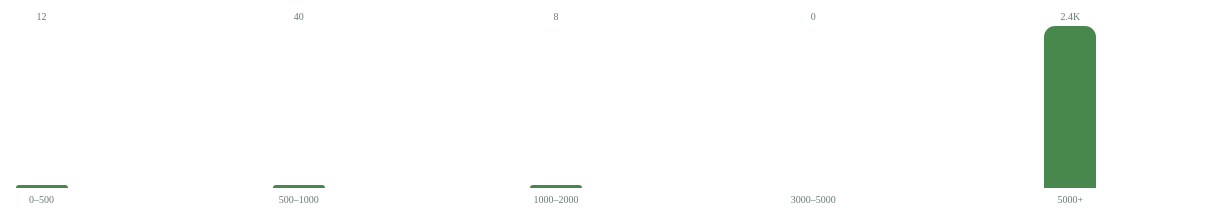
BarChart (V6 audit S5/S7/S8) › S8: the exact figure still reaches assistive tech and the tooltip
Focus the button "2.4K": [1070, 100] box [945,12,1196,188]
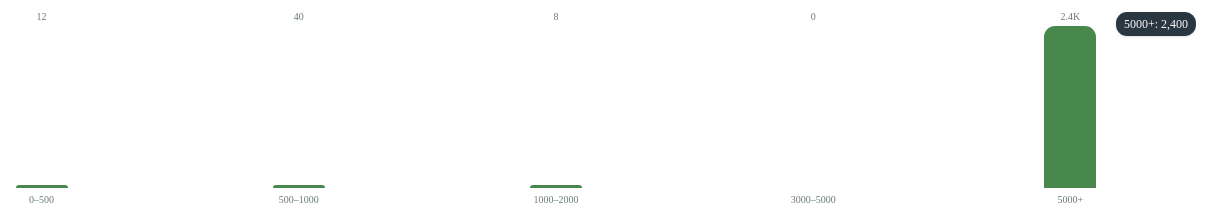
Result: the text "5000+: 2,400" is shown at [1116,12,1196,36]
